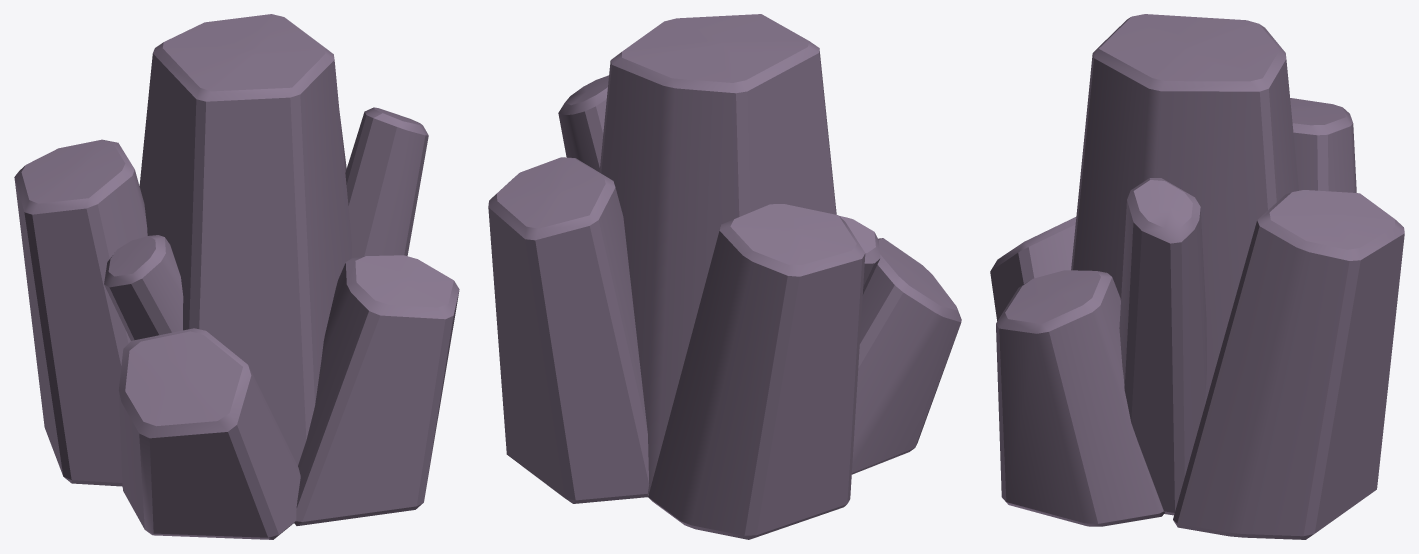
Rendered from big-crystal.glb.
3 renders of one model, left to right at view 1: azimuth 30°, elevation 25°; view 2: azimuth 150°, elevation 25°; view 3: azimuth 270°, elevation 25°, orthographic. The views are drawn at different scales.
Visible parts, largest first — view 1: Crystal_Big; view 2: Crystal_Big; view 3: Crystal_Big.
Part boxes in pixels (x1,y1,x2,y2): Crystal_Big: [14, 14, 459, 539]; Crystal_Big: [488, 14, 961, 539]; Crystal_Big: [990, 14, 1404, 539].
Size of the model in its own units: 1.48 by 1.65 by 1.48.
1 material, 1 textured.
